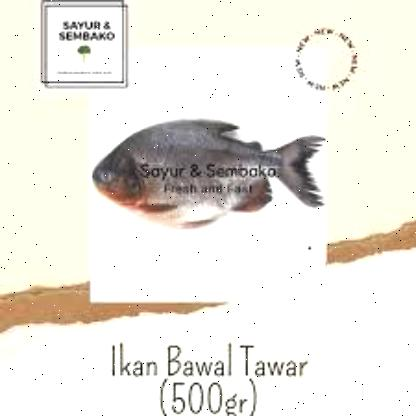ikan-pacu: (91, 120, 321, 226)
